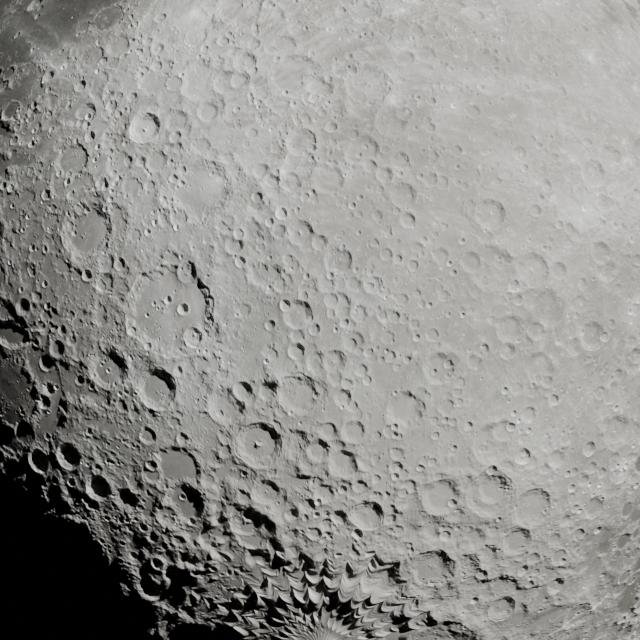crater: (165, 154, 225, 214), (263, 53, 323, 105), (337, 64, 390, 119), (65, 205, 110, 257), (234, 422, 282, 470), (373, 101, 422, 148), (509, 286, 559, 331), (464, 474, 512, 520), (276, 374, 321, 418), (508, 488, 553, 532), (415, 479, 461, 519), (381, 391, 423, 433), (88, 352, 125, 394), (139, 372, 177, 412), (203, 387, 241, 427), (421, 352, 459, 388), (512, 254, 550, 288), (56, 144, 92, 179), (600, 414, 634, 451), (307, 162, 345, 195), (500, 527, 538, 560), (127, 110, 162, 144), (493, 314, 529, 346), (524, 352, 557, 386), (279, 298, 312, 332), (346, 501, 382, 532), (472, 200, 506, 232), (385, 180, 417, 211), (90, 5, 125, 32), (579, 322, 609, 352), (84, 472, 112, 503), (55, 441, 83, 471), (488, 420, 518, 447), (580, 162, 608, 190), (210, 71, 239, 97), (26, 447, 51, 477), (162, 110, 190, 136), (474, 76, 506, 98), (339, 420, 366, 446), (327, 246, 353, 273), (458, 250, 486, 275), (102, 35, 129, 59), (304, 442, 329, 467), (584, 496, 607, 520), (232, 54, 257, 76), (231, 381, 254, 404), (195, 101, 219, 123), (324, 350, 348, 372), (182, 327, 204, 350), (73, 102, 96, 124), (591, 241, 613, 264), (94, 272, 115, 296), (1, 99, 22, 122), (176, 263, 196, 285), (431, 246, 451, 268), (549, 260, 570, 280), (228, 71, 250, 90), (47, 338, 66, 360), (286, 342, 306, 362), (465, 351, 486, 370), (139, 426, 158, 447), (330, 292, 350, 311), (498, 343, 518, 361), (398, 212, 417, 230), (38, 355, 56, 374), (519, 406, 537, 424), (616, 534, 633, 552), (347, 331, 365, 348), (310, 235, 328, 252), (514, 450, 532, 466), (425, 327, 441, 342), (73, 79, 89, 94), (244, 126, 260, 141), (582, 441, 596, 457), (323, 120, 339, 134), (41, 70, 55, 86), (274, 206, 288, 221), (80, 267, 94, 282), (513, 146, 527, 159), (528, 204, 542, 217), (177, 303, 190, 316), (250, 192, 262, 205), (40, 190, 52, 202), (407, 260, 419, 272), (263, 320, 275, 332), (28, 244, 38, 254), (41, 243, 50, 254)
